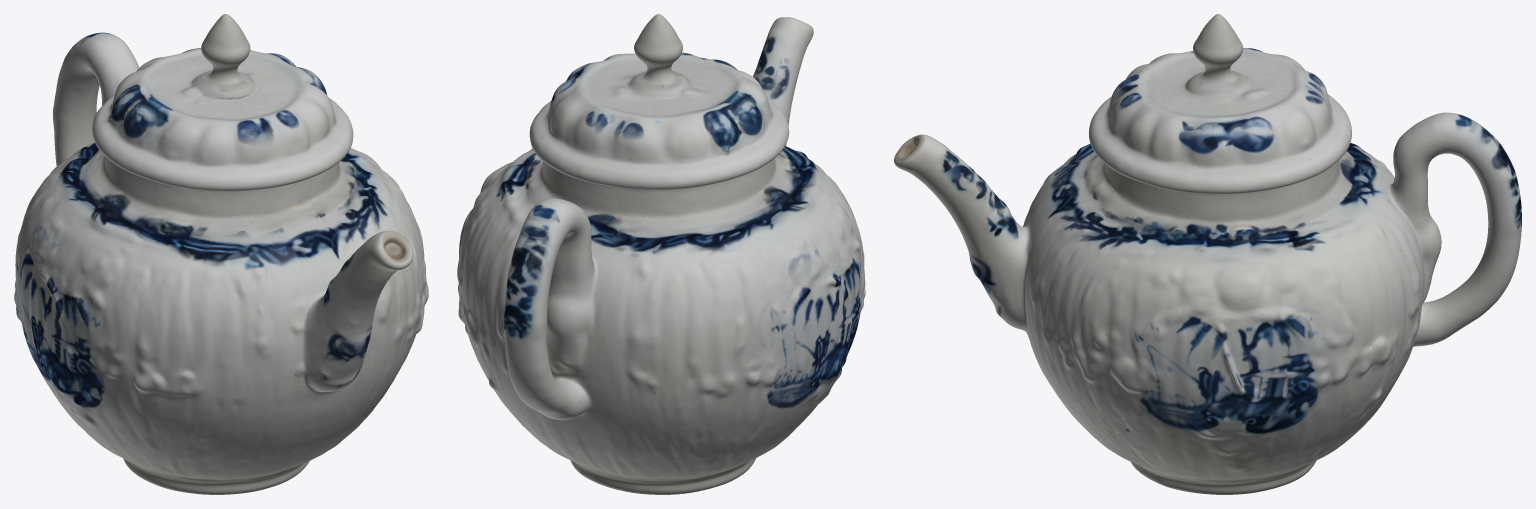
The model's file is tripo_convert_c68dfc5a-ebed-48c4-970f-b8cd8276e86a.fbx.
3 renders of one model, left to right at view 1: azimuth 30°, elevation 25°; view 2: azimuth 150°, elevation 25°; view 3: azimuth 270°, elevation 25°, orthographic.
Visible parts, largest first — view 1: tripo_node_c68dfc5a; view 2: tripo_node_c68dfc5a; view 3: tripo_node_c68dfc5a.
Boxes of the visible parts, x1,y1,x2,y2 form: tripo_node_c68dfc5a: (14,14,428,494); tripo_node_c68dfc5a: (457,14,865,494); tripo_node_c68dfc5a: (894,14,1521,494).
Size of the model in its own units: 61.81 by 74.35 by 94.74.
Materials: 1 (1 with a texture image).
